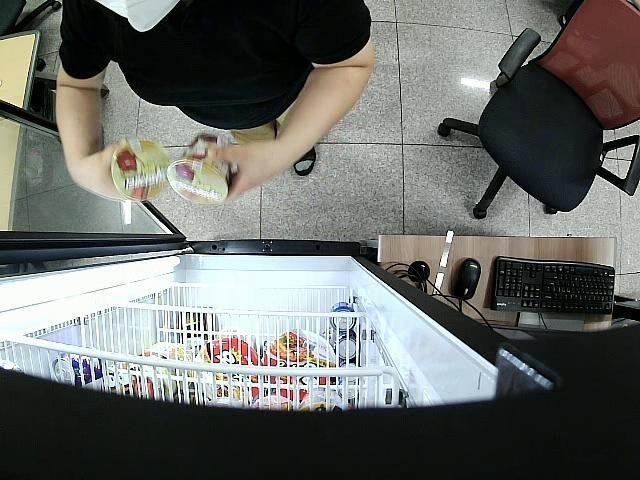04_chapagetti_S: (166, 133, 233, 207), (111, 136, 168, 200)
